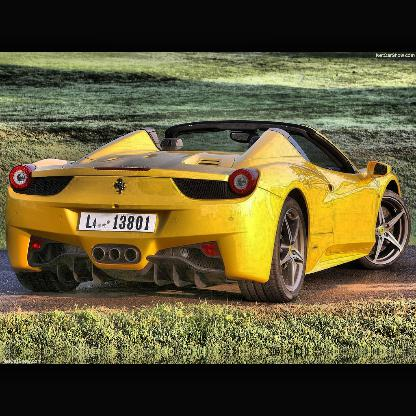Ferrari 458 Italia Convertible 2012: (7, 120, 412, 303)
